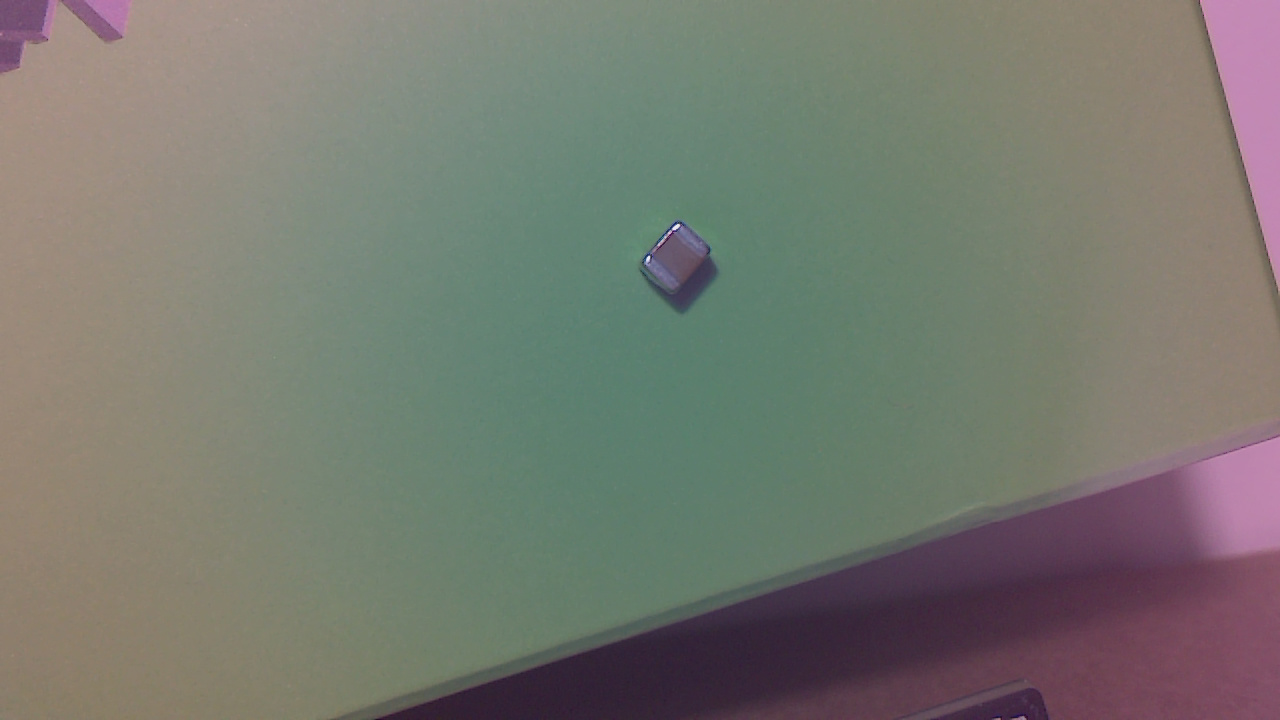Condensator: (642, 226, 716, 304)
